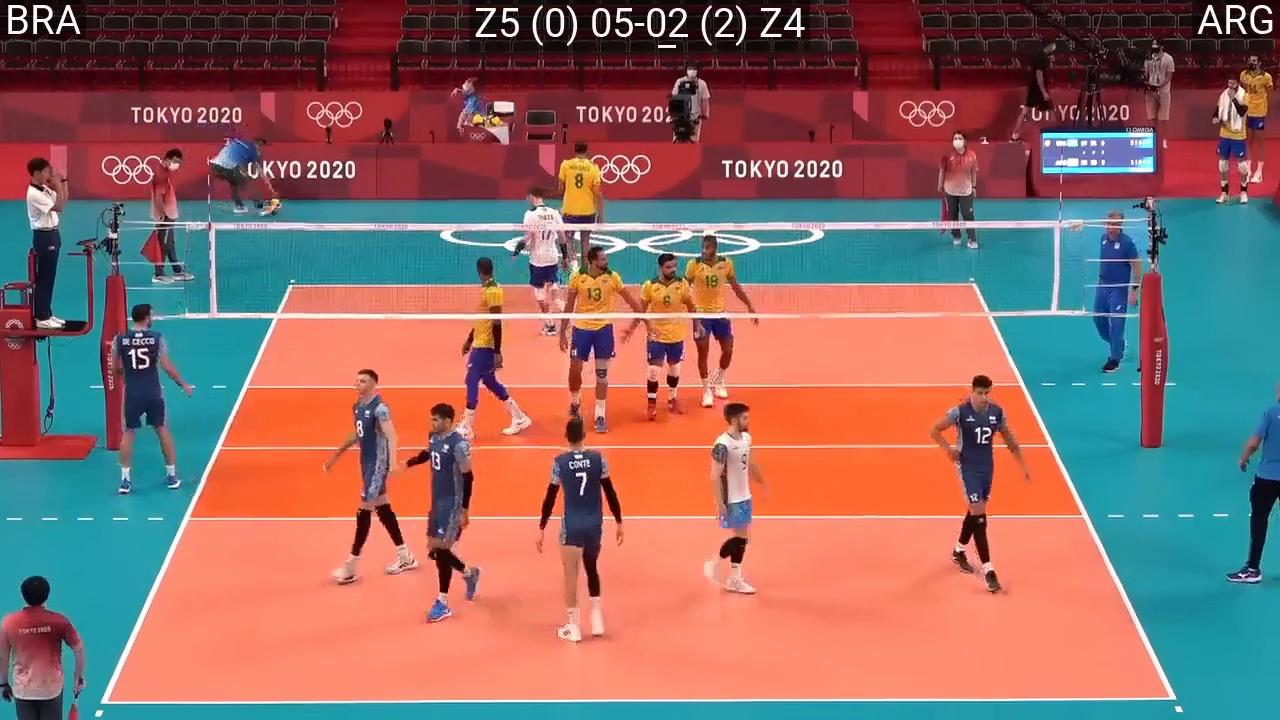ball: (267, 199, 284, 214)
